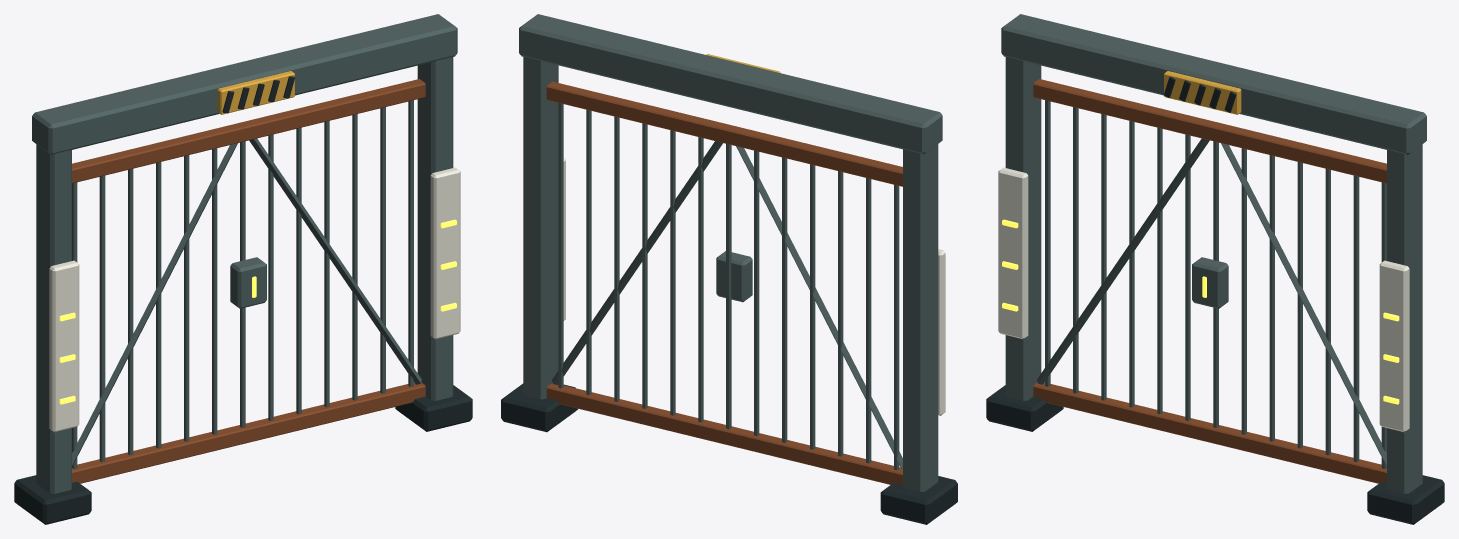
Rendered from hazard_gate.glb.
The picture shows the model from 3 angles, left to right: view 1: azimuth 30°, elevation 25°; view 2: azimuth 150°, elevation 25°; view 3: azimuth 330°, elevation 25°; orthographic projection.
Parts seen in each view (by area): view 1: frame_mesh, gate_panel_mesh; view 2: frame_mesh, gate_panel_mesh; view 3: frame_mesh, gate_panel_mesh.
Boxes of the visible parts, box(x1,y1,x2,y2) form: frame_mesh: box(14, 14, 472, 524); gate_panel_mesh: box(72, 79, 425, 483); frame_mesh: box(501, 14, 957, 524); gate_panel_mesh: box(546, 81, 902, 484); frame_mesh: box(986, 14, 1444, 524); gate_panel_mesh: box(1033, 79, 1386, 483).
Bounding box in the file's own units: 3.68 × 3.22 × 0.471.
